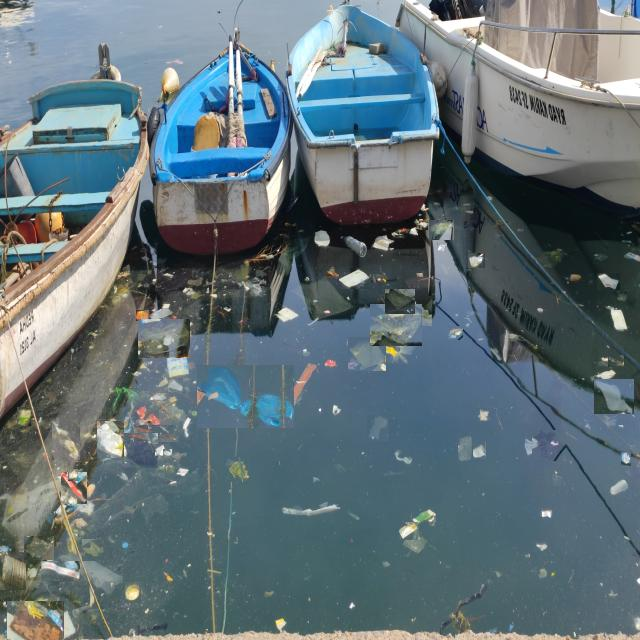Bottle cap: (125, 582, 141, 603), (122, 541, 129, 550), (536, 307, 544, 314), (313, 299, 318, 305), (376, 277, 382, 282), (172, 315, 177, 320)
Plastic: (278, 502, 342, 520), (401, 522, 428, 556), (24, 536, 54, 560), (338, 268, 371, 289), (224, 457, 250, 482), (367, 415, 389, 441), (273, 305, 300, 324), (371, 234, 395, 252), (149, 304, 173, 322), (458, 434, 473, 462), (314, 227, 331, 251), (394, 446, 414, 466), (591, 368, 616, 384), (597, 273, 620, 290), (611, 308, 627, 332), (398, 522, 418, 540), (524, 436, 539, 458), (182, 416, 192, 439), (448, 326, 463, 340), (608, 356, 624, 368), (593, 252, 609, 264), (596, 358, 612, 369), (476, 408, 488, 422), (155, 377, 169, 388), (537, 566, 548, 580), (149, 394, 167, 402), (536, 541, 548, 553), (621, 452, 631, 466), (332, 403, 342, 417), (155, 444, 166, 456), (540, 508, 552, 519), (176, 467, 189, 477), (182, 286, 195, 296), (68, 469, 78, 481), (617, 291, 627, 303), (437, 244, 447, 254), (409, 226, 418, 236), (163, 449, 172, 457)
Plastic bag: (197, 365, 294, 428), (370, 304, 422, 346), (138, 319, 190, 358), (594, 379, 634, 414), (348, 337, 386, 371), (124, 433, 158, 468), (382, 335, 417, 367), (52, 420, 80, 460), (532, 430, 566, 461), (97, 421, 124, 458), (407, 296, 432, 326), (385, 289, 415, 314), (535, 246, 566, 270), (22, 595, 48, 620), (429, 220, 454, 240), (82, 539, 104, 561)
Plastic bottle: (0, 552, 26, 590), (339, 234, 366, 258)
Plastic cup: (609, 477, 629, 496), (471, 442, 486, 459), (168, 378, 183, 392), (153, 330, 166, 343), (420, 221, 428, 230)
Plastic packaging: (61, 472, 87, 504), (41, 561, 80, 581), (135, 404, 160, 434), (66, 490, 95, 514), (166, 353, 190, 378), (412, 507, 436, 526), (7, 606, 24, 630), (17, 407, 31, 426), (468, 253, 485, 268), (136, 310, 149, 321), (324, 358, 337, 368), (223, 306, 232, 312)
Wood: (7, 601, 64, 640), (285, 361, 317, 406), (135, 425, 177, 442)
